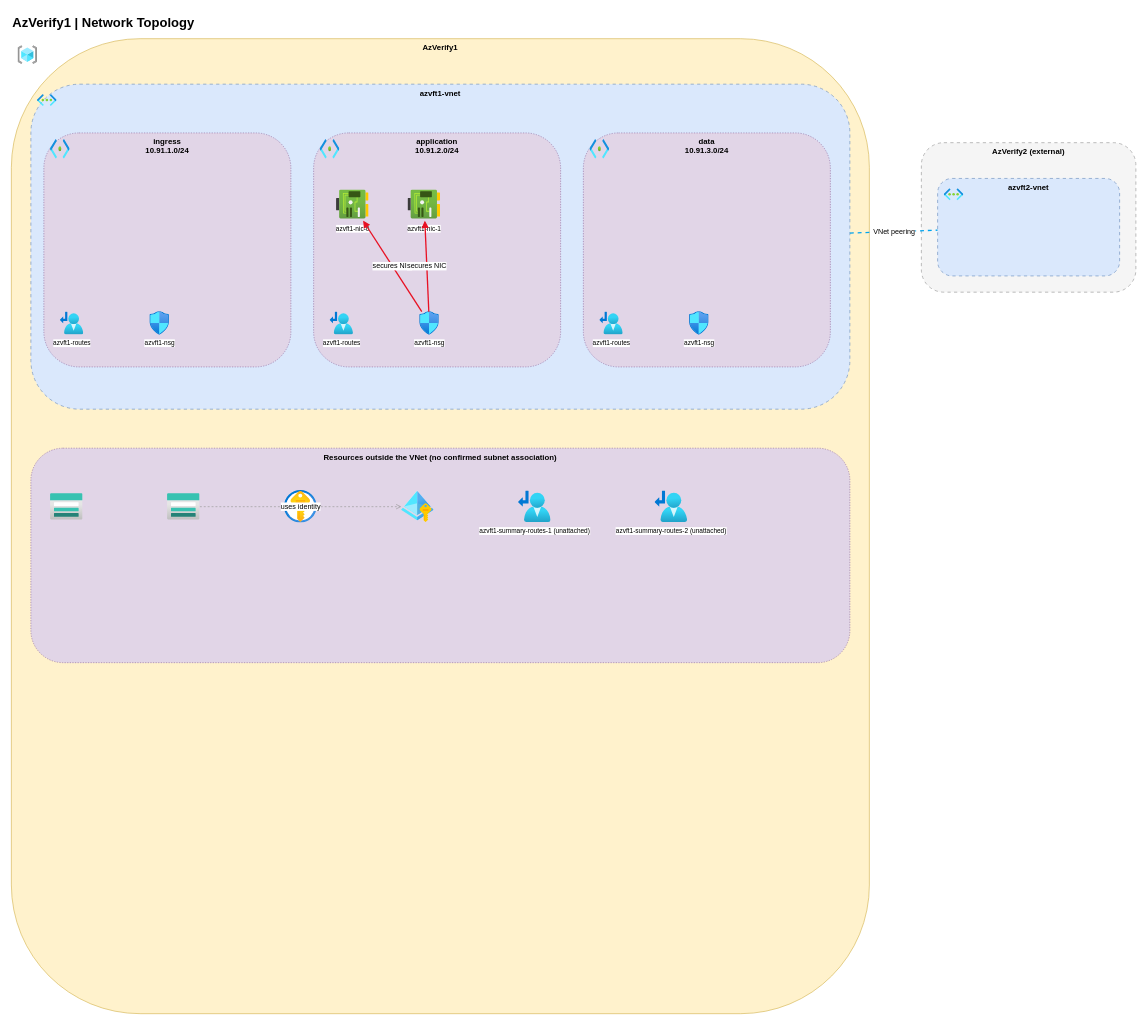
Some shapes in this 1147 by 1025 pixel diagram are drawn without their labels. The shapes that lost their labels are listed below. From the top down, each one's centre as x and y in pixels, then its label:
At pixel 66 506: "azvtest9bd9cf0b".
At pixel 183 506: "azvft19bd9cf0b".
At pixel 300 506: "azvft1-kv-9bd9cf0b".
At pixel 417 506: "azvft1-identity".
